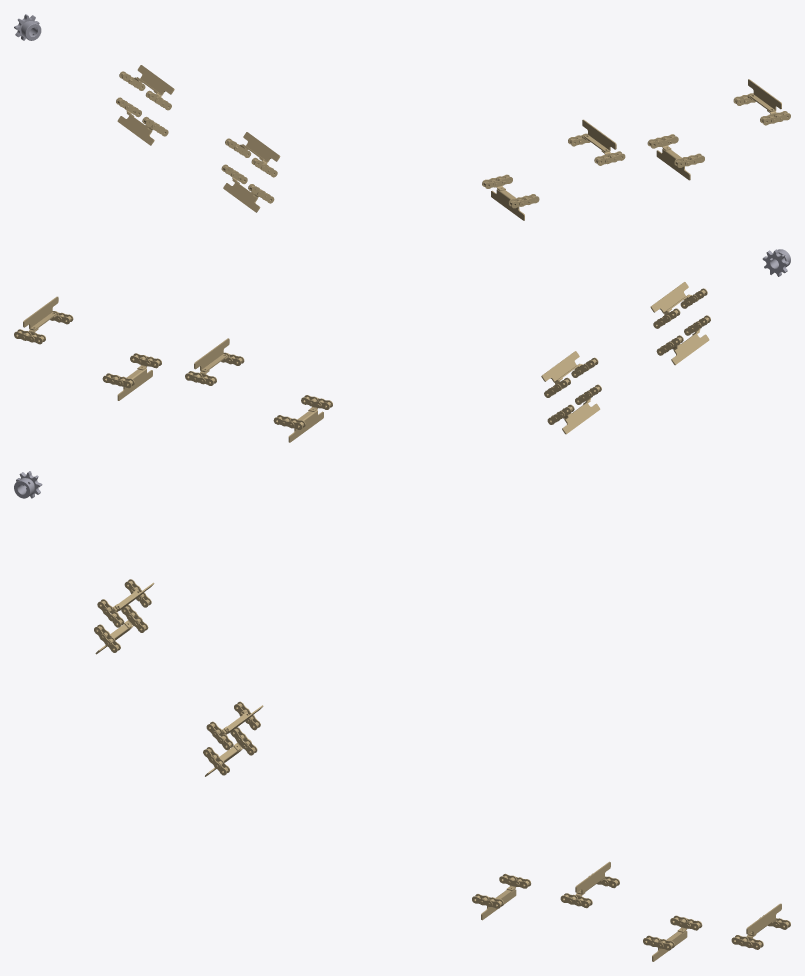
3 renders of one model, top to bottom at view 1: azimuth 30°, elevation 25°; view 2: azimuth 150°, elevation 25°; view 3: azimuth 330°, elevation 25°, orthographic. The views are drawn at different scales.
Visible parts, largest first — view 1: 刮渣5, 刮渣7, 刮渣6, 刮渣8, 刮渣4, 刮渣1, 刮渣2, 刮渣3, 實體1; view 2: 刮渣4, 刮渣7, 刮渣6, 刮渣5, 刮渣8, 刮渣2, 刮渣3, 刮渣1, 實體1; view 3: 刮渣7, 刮渣4, 刮渣5, 刮渣6, 刮渣3, 刮渣2, 刮渣1, 刮渣8.
Boxes of the visible parts, box(x1,y1,x2,y2) form: 刮渣5: box(647, 134, 704, 180); 刮渣7: box(568, 119, 625, 165); 刮渣6: box(733, 79, 790, 125); 刮渣8: box(225, 132, 280, 177); 刮渣4: box(482, 174, 539, 220); 刮渣1: box(119, 65, 174, 110); 刮渣2: box(116, 97, 168, 145); 刮渣3: box(221, 164, 274, 212); 實體1: box(14, 14, 41, 40); 刮渣4: box(273, 395, 332, 442); 刮渣7: box(185, 338, 244, 385); 刮渣6: box(14, 296, 73, 344); 刮渣5: box(102, 353, 161, 400); 刮渣8: box(541, 351, 598, 397); 刮渣2: box(656, 315, 710, 365); 刮渣3: box(547, 384, 601, 434); 刮渣1: box(650, 282, 707, 328); 實體1: box(762, 249, 790, 276); 刮渣7: box(560, 861, 619, 908); 刮渣4: box(472, 873, 531, 920); 刮渣5: box(643, 915, 702, 961); 刮渣6: box(731, 903, 790, 949); 刮渣3: box(203, 727, 257, 776); 刮渣2: box(94, 604, 148, 654); 刮渣1: box(97, 579, 154, 627); 刮渣8: box(206, 701, 263, 750).
Bounding box in the file's own units: 53.32 × 20.33 × 4.1.
